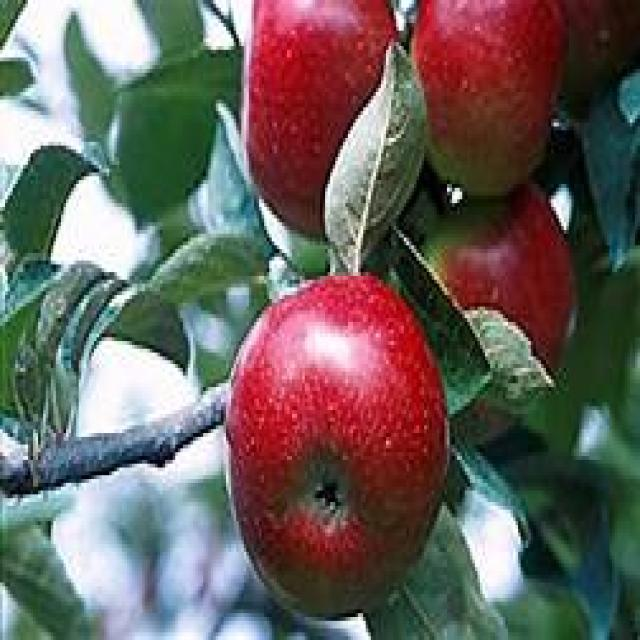apple: (225, 274, 450, 617)
